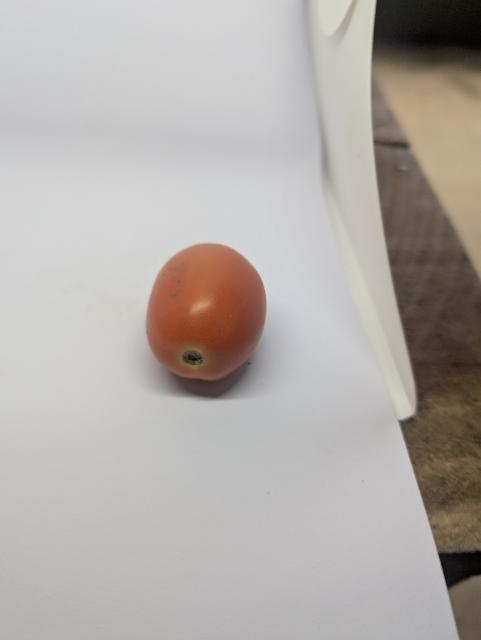red: (137, 234, 282, 404)
